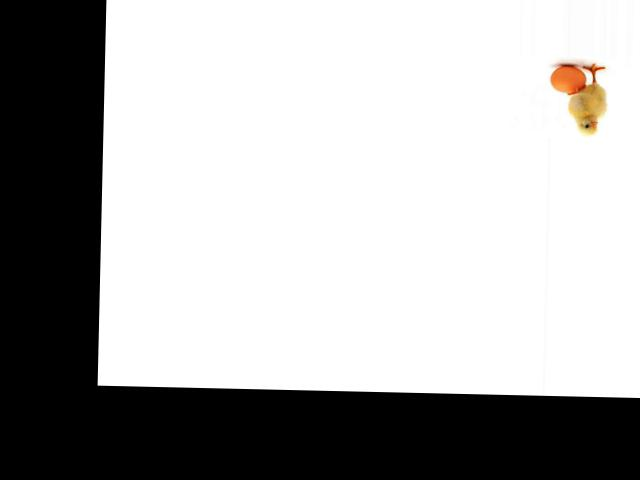egg: (550, 65, 587, 94)
